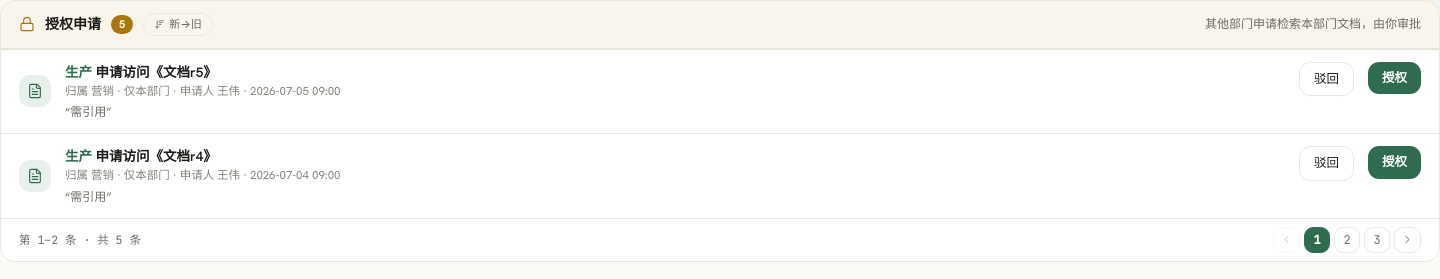
Test: AccessRequestQueue › 分页：5 条 → 2 条/页；默认新→旧；翻页脚「第 x–y 条 · 共 N 条」
This screenshot has width=1440, height=279.
expect the text with test id "pager-info" reads "第 1–2 条 · 共 5 条": met, box [19,232,141,247]
Click the button named "下一页" at (1408, 240), box [1394,226,1421,252]
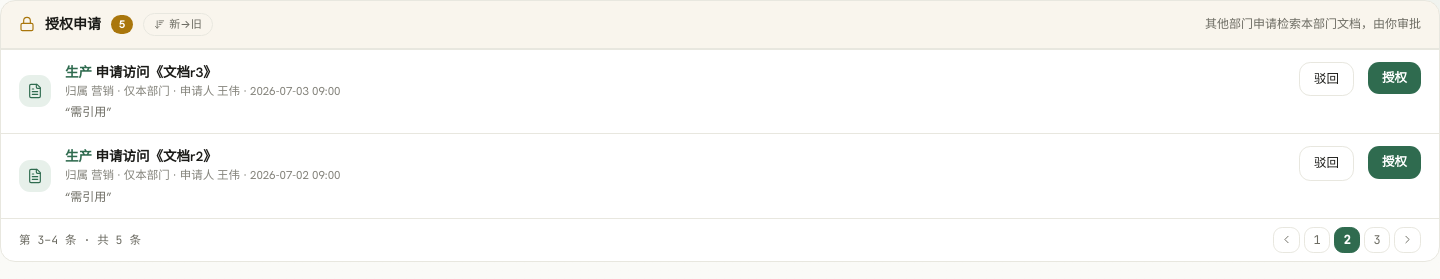
expect the text "文档r3" is shown: met, box [92,62,217,80]
expect the text with test id "pager-info" reads "第 3–4 条 · 共 5 条": met, box [19,232,141,247]
